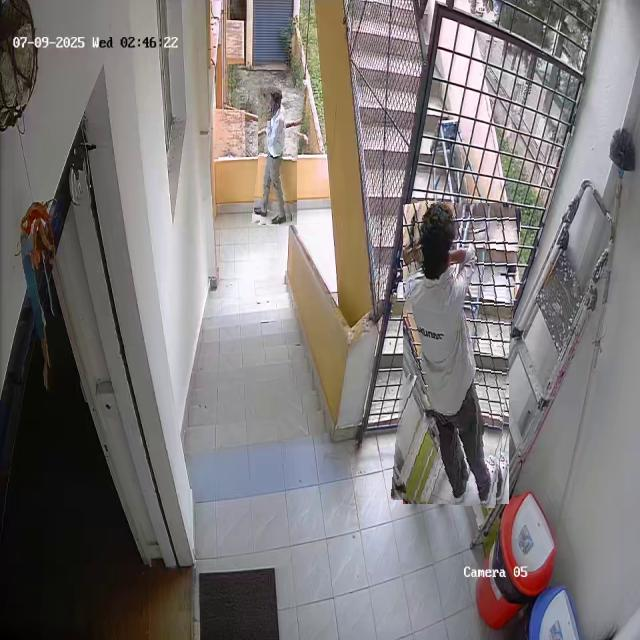person: (397, 201, 516, 506), (255, 87, 300, 226)
